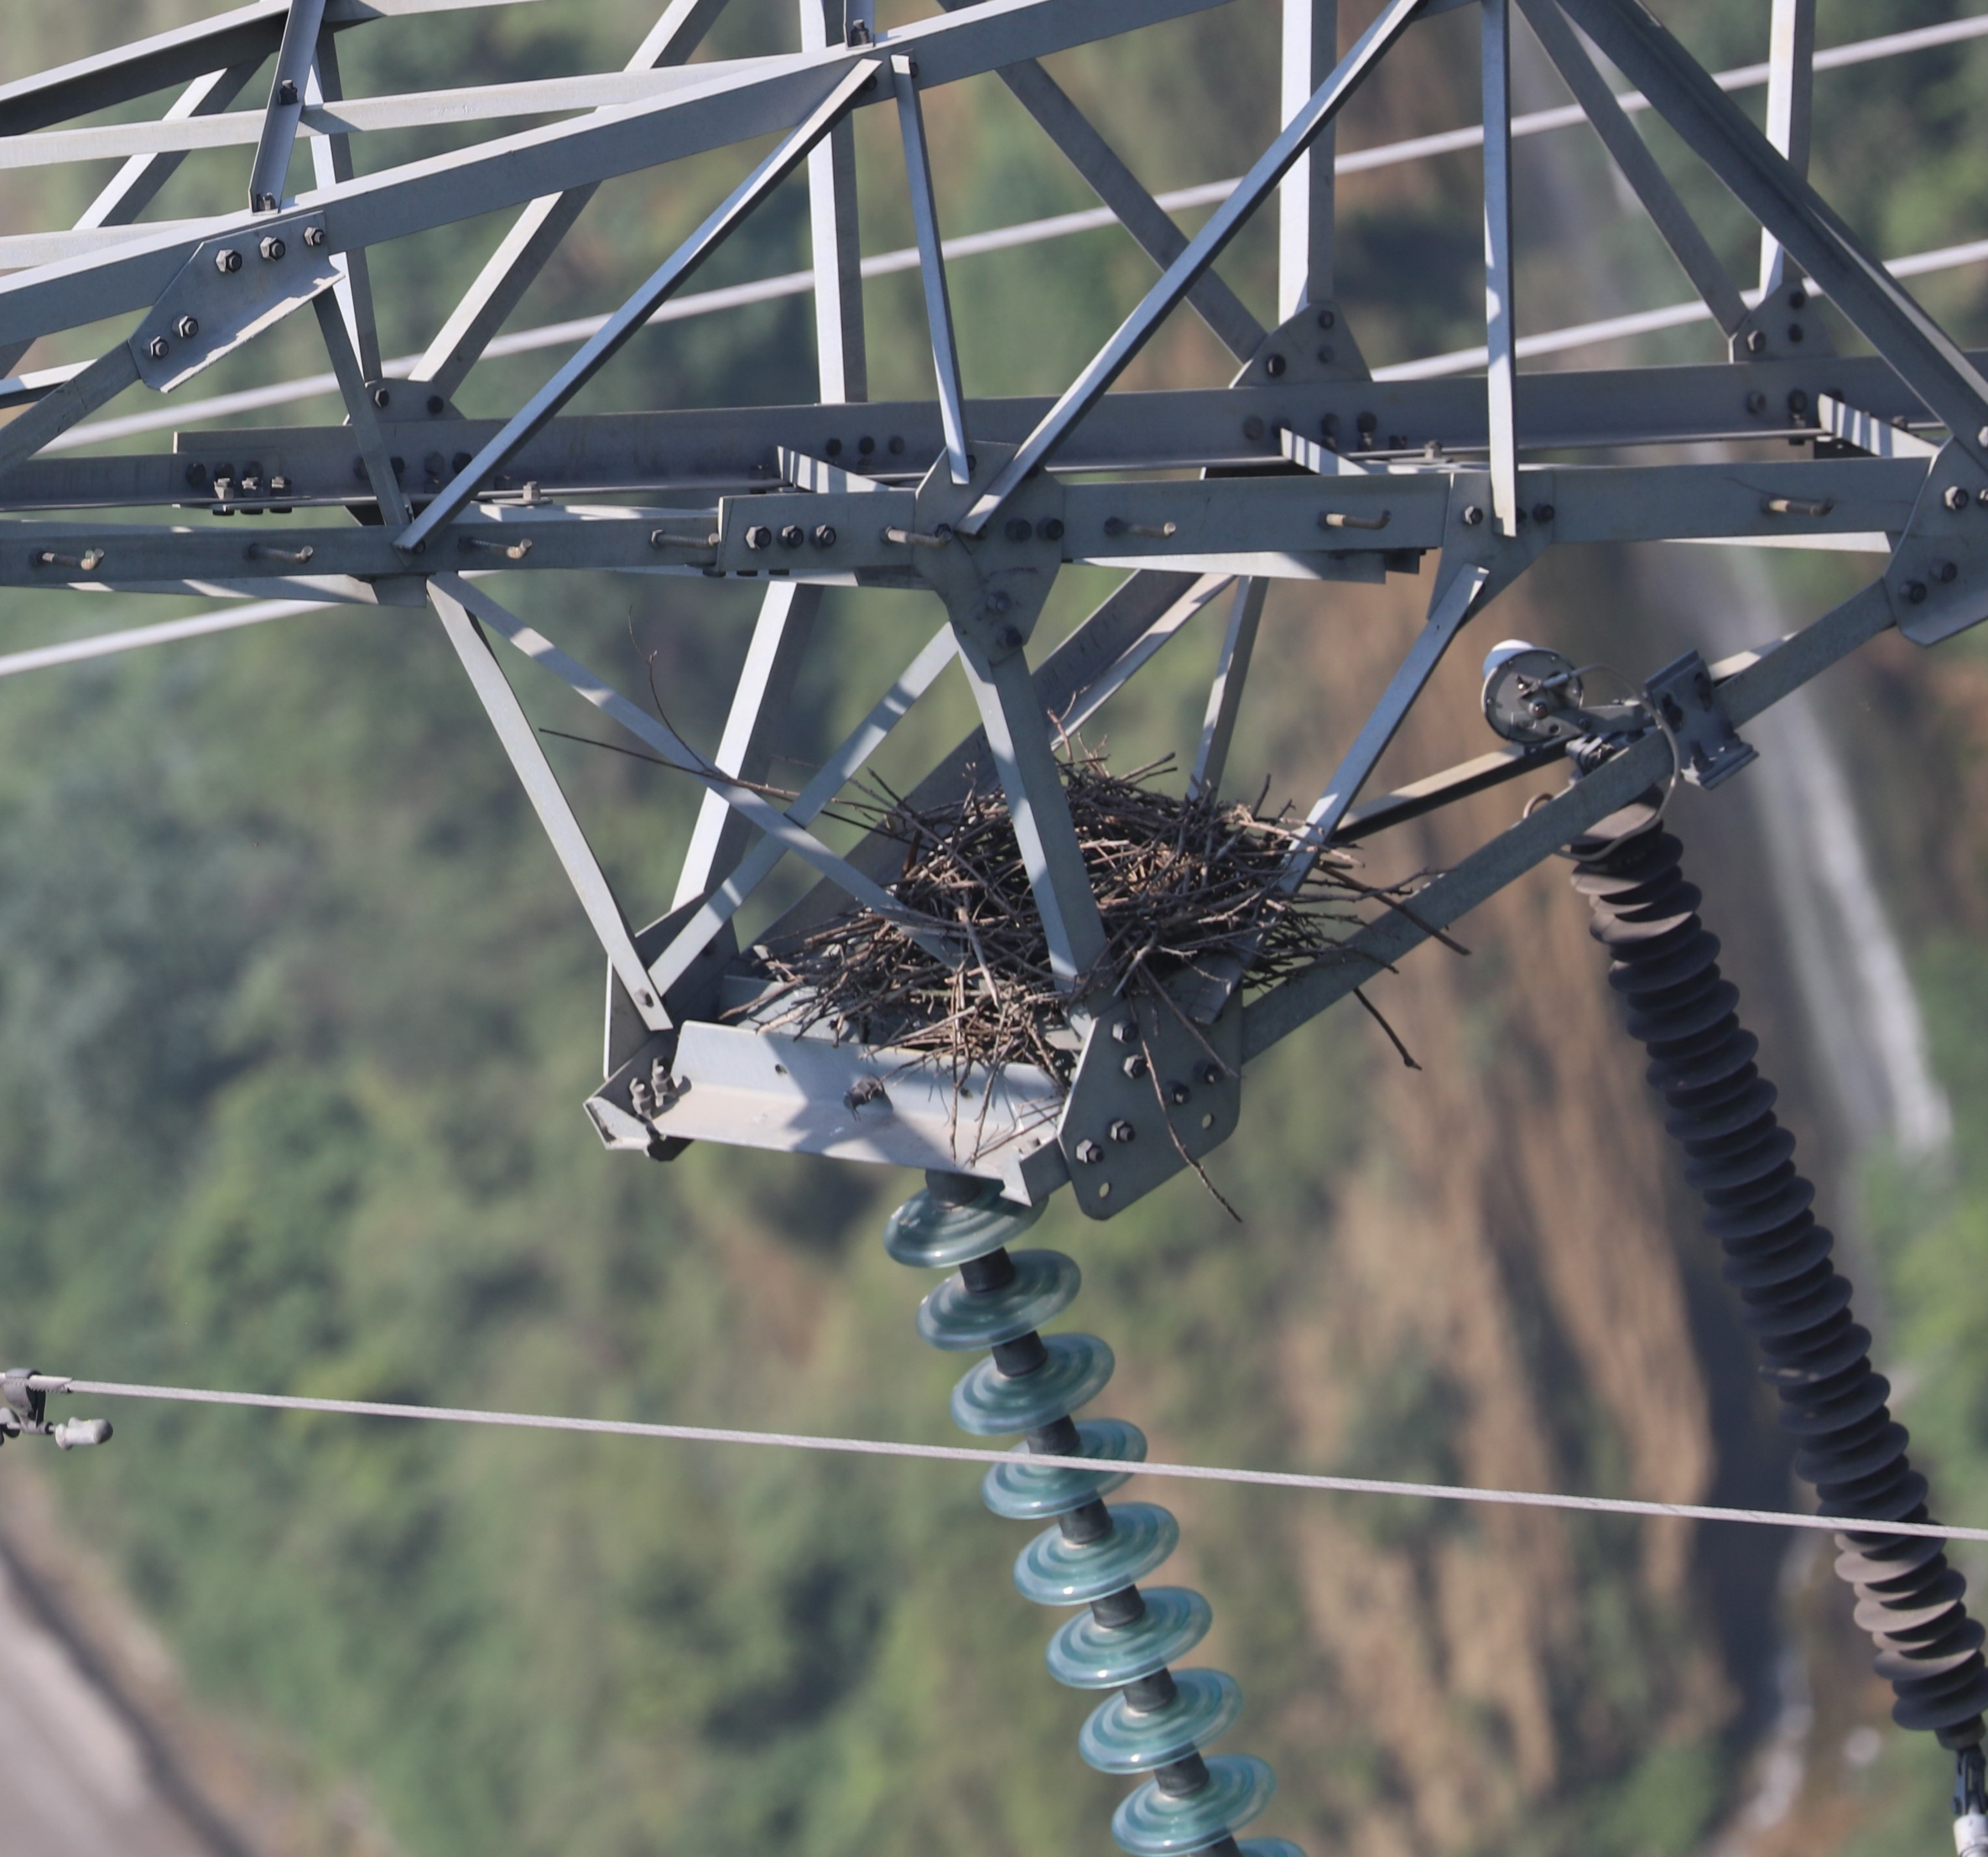niaowo: (803, 726, 1333, 1131)
